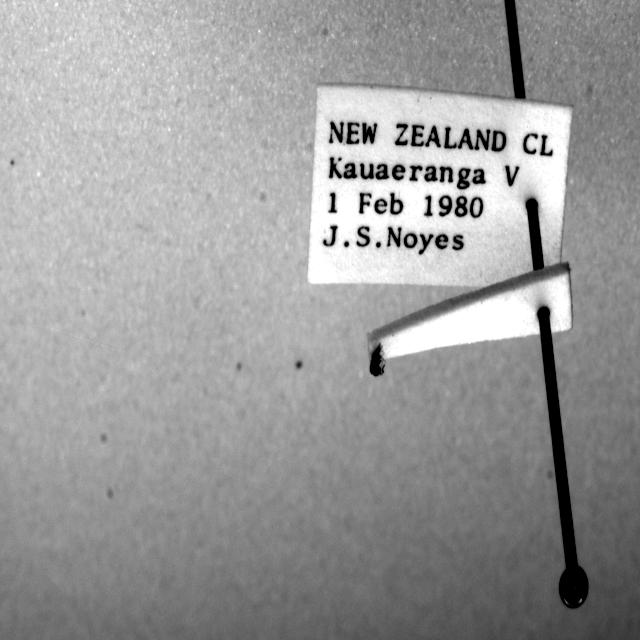typed_label: (308, 84, 572, 287)
